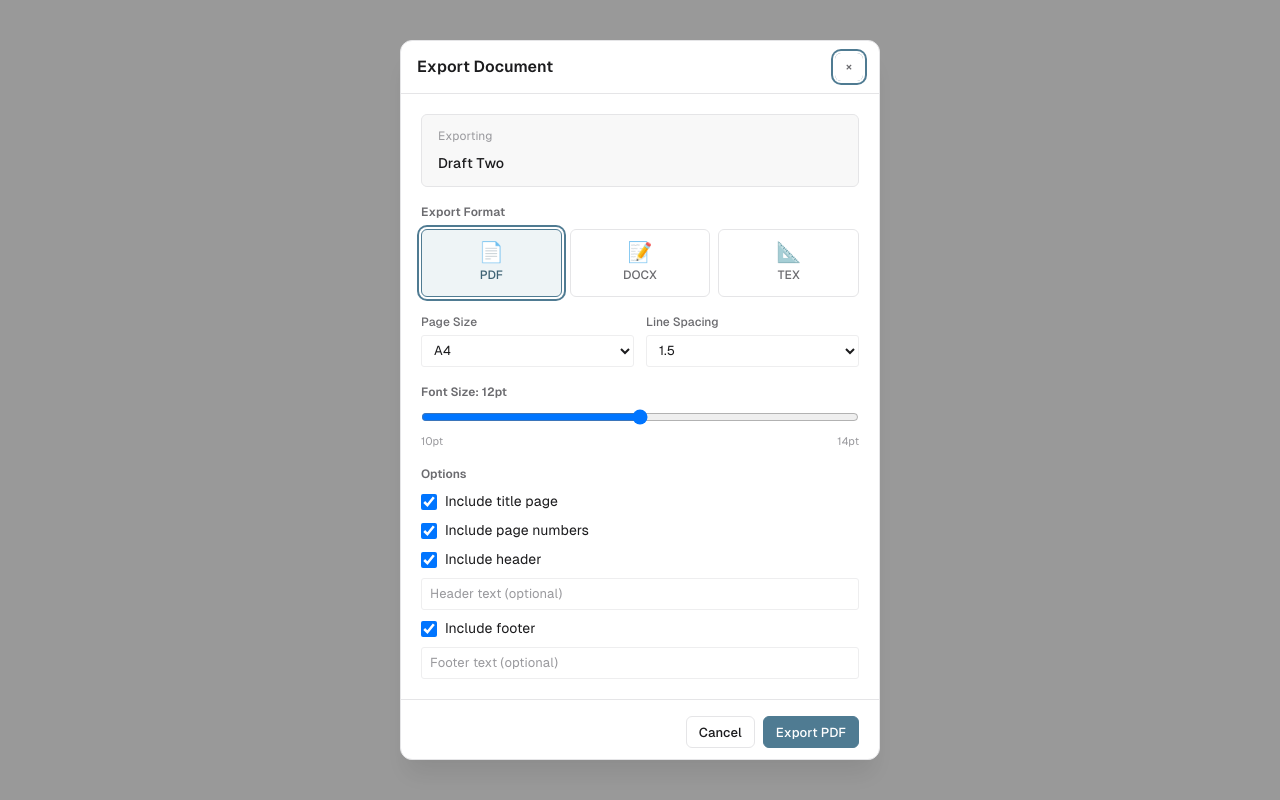
ExportPanel › shows an error when save location is cancelled
Click the button "Export PDF": coordinates (811, 732) 763,716 -> 859,748
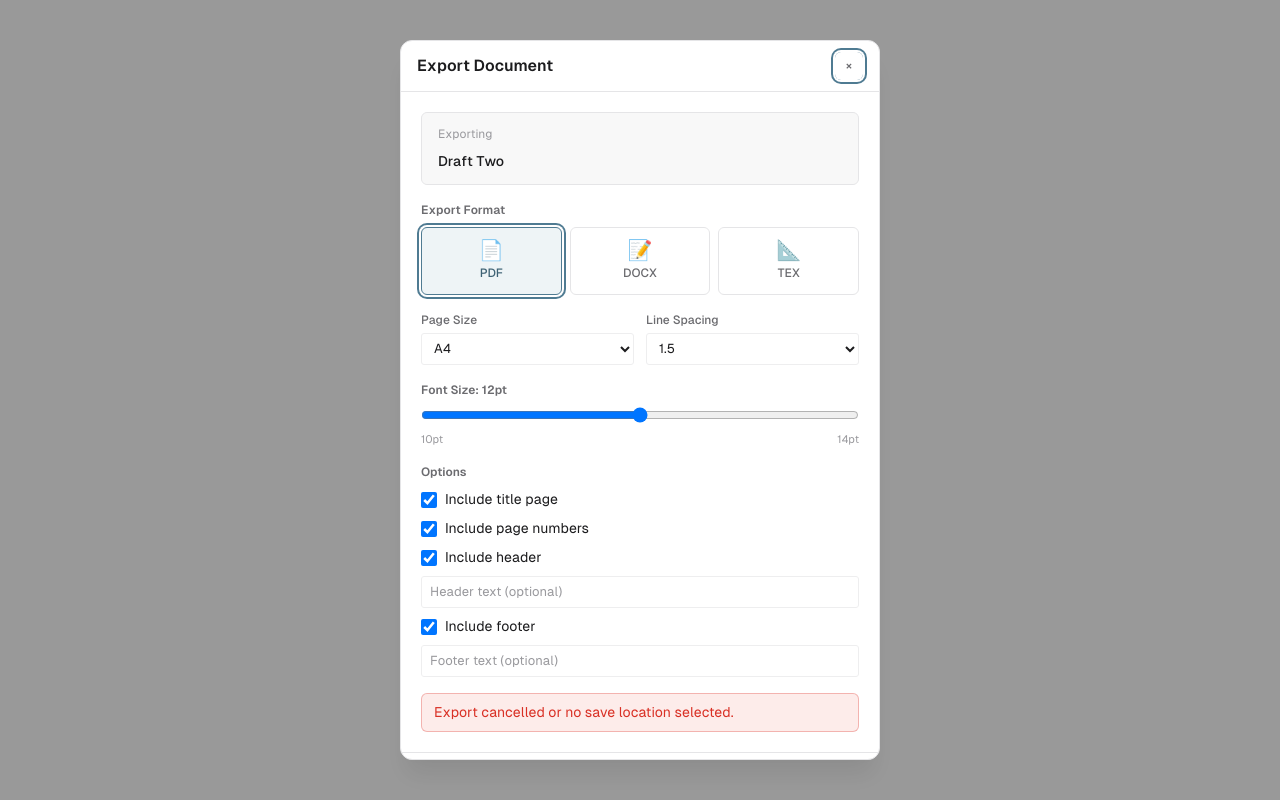
Expected: the text "Export cancelled or no save location selected." is shown, 421,693 -> 859,732
Expected: the message reads "Export cancelled or no save location selected.", 434,704 -> 734,720
